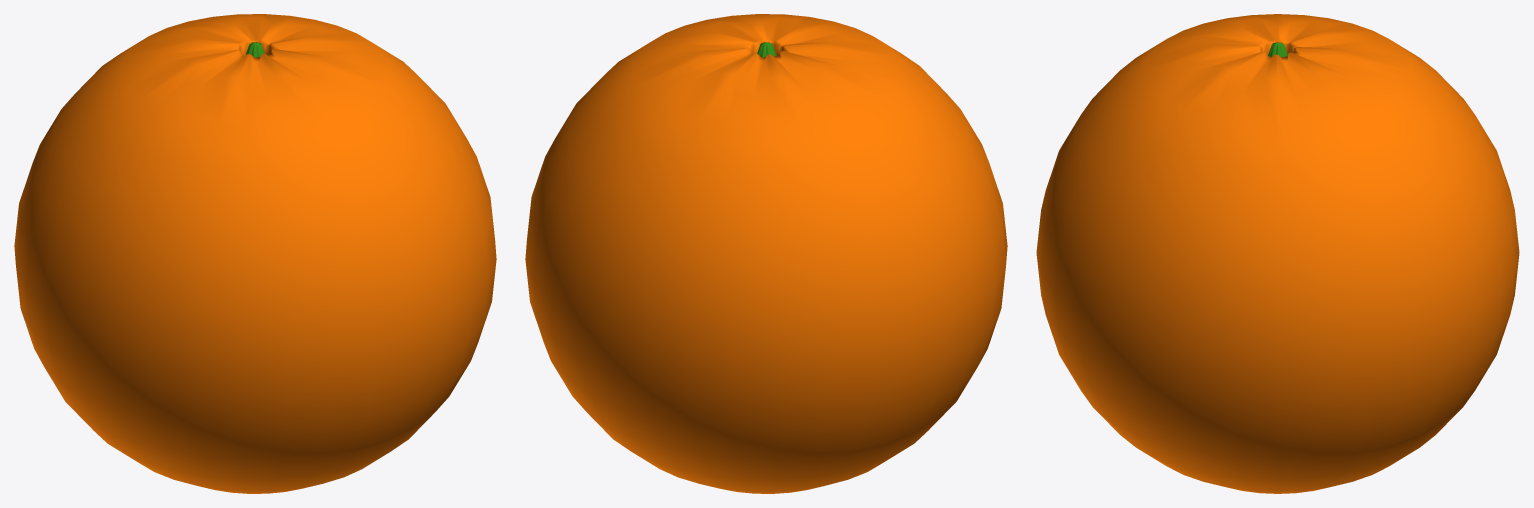
Rendered from orange.glb.
The picture shows the model from 3 angles, left to right: view 1: azimuth 30°, elevation 25°; view 2: azimuth 150°, elevation 25°; view 3: azimuth 270°, elevation 25°; orthographic projection.
Visible parts, largest first — view 1: Sphere; view 2: Sphere; view 3: Sphere.
Boxes of the visible parts, <box> form: Sphere: <box>14,14,496,493</box>; Sphere: <box>525,14,1007,493</box>; Sphere: <box>1036,14,1519,493</box>.
Bounding box in the file's own units: 0.0707 × 0.0699 × 0.0707.
2 materials, 1 textured.
